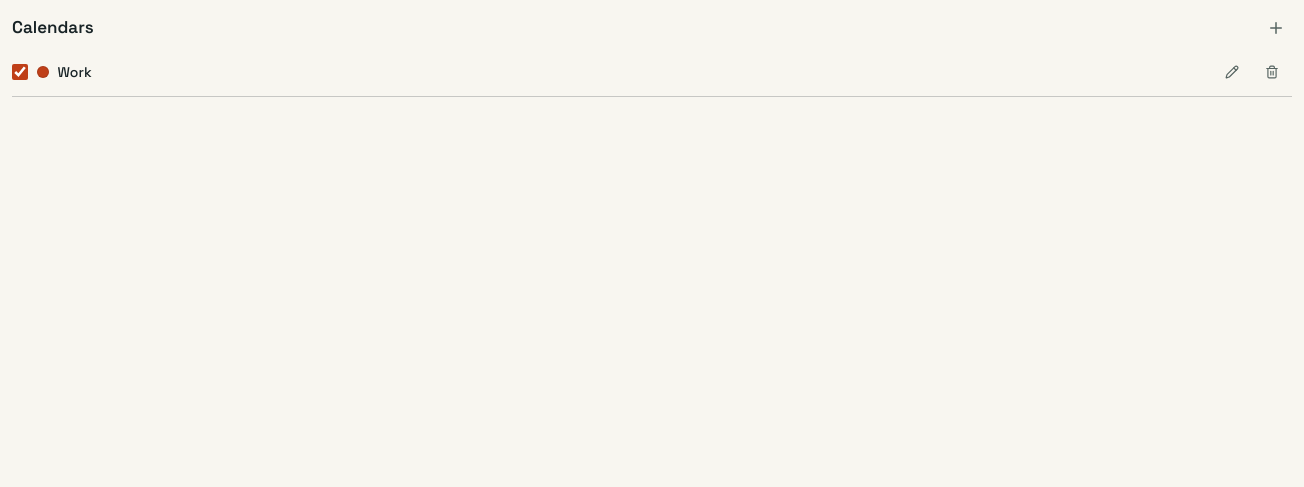
Test: CalendarSidebar › explains a refresh refused as too soon
The width and height of the screenshot is (1304, 487).
Step 1. Click the button named "Edit Work" → [1232, 72], box [1212,52,1252,92]
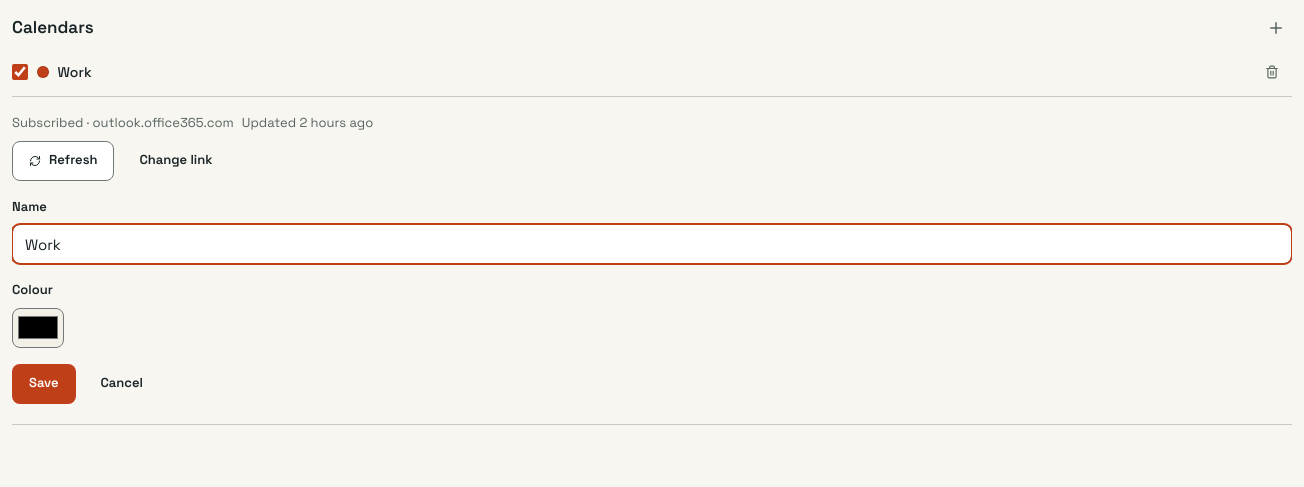
Step 2. Click the button with aria-label "Refresh Work" → [63, 160], box [12,140,114,180]
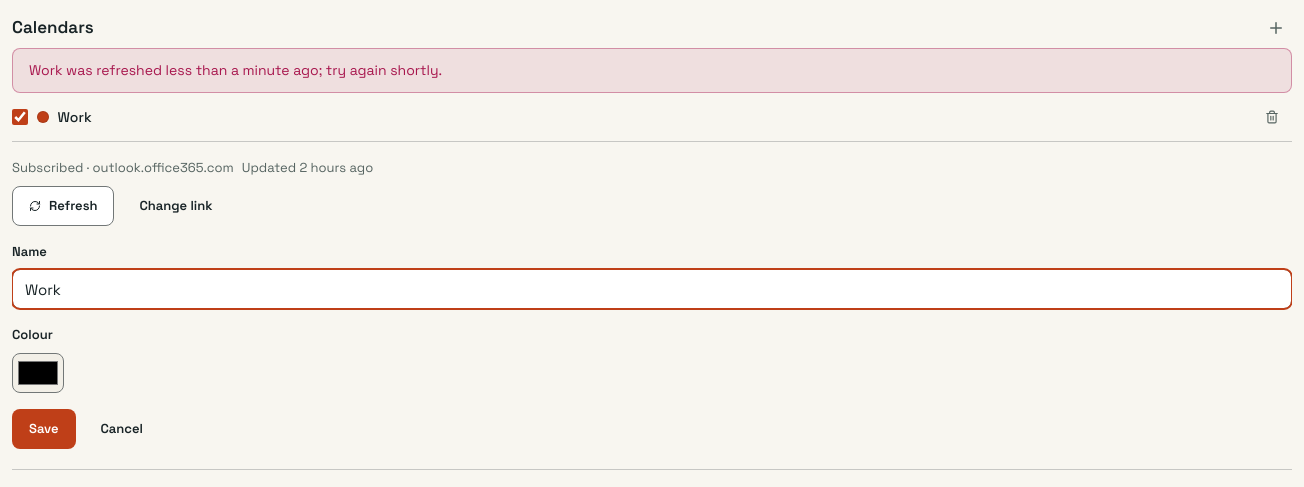
Now the message reads "Work was refreshed less than a minute ago; try again shortly.", box [29,61,442,79]
